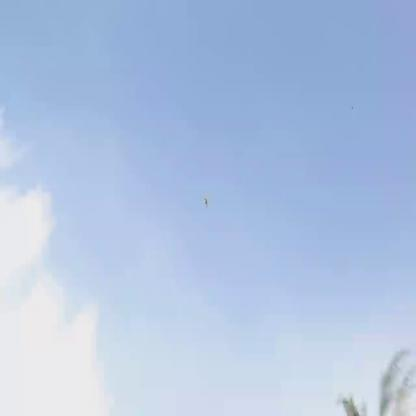drone: (200, 195, 210, 210)
